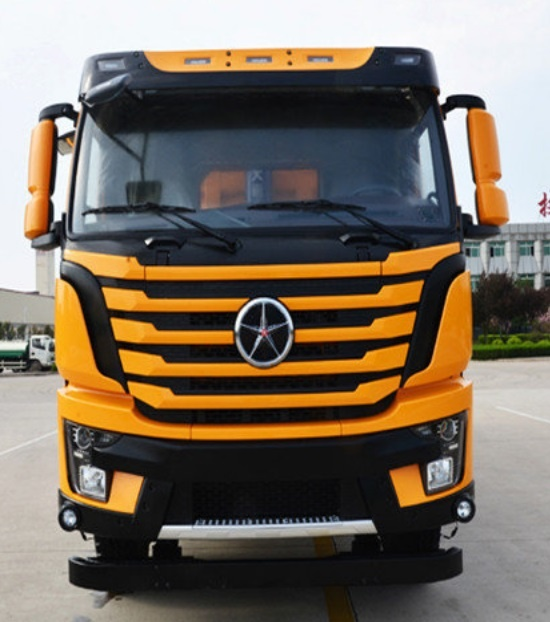heavy truck: (25, 42, 493, 601)
